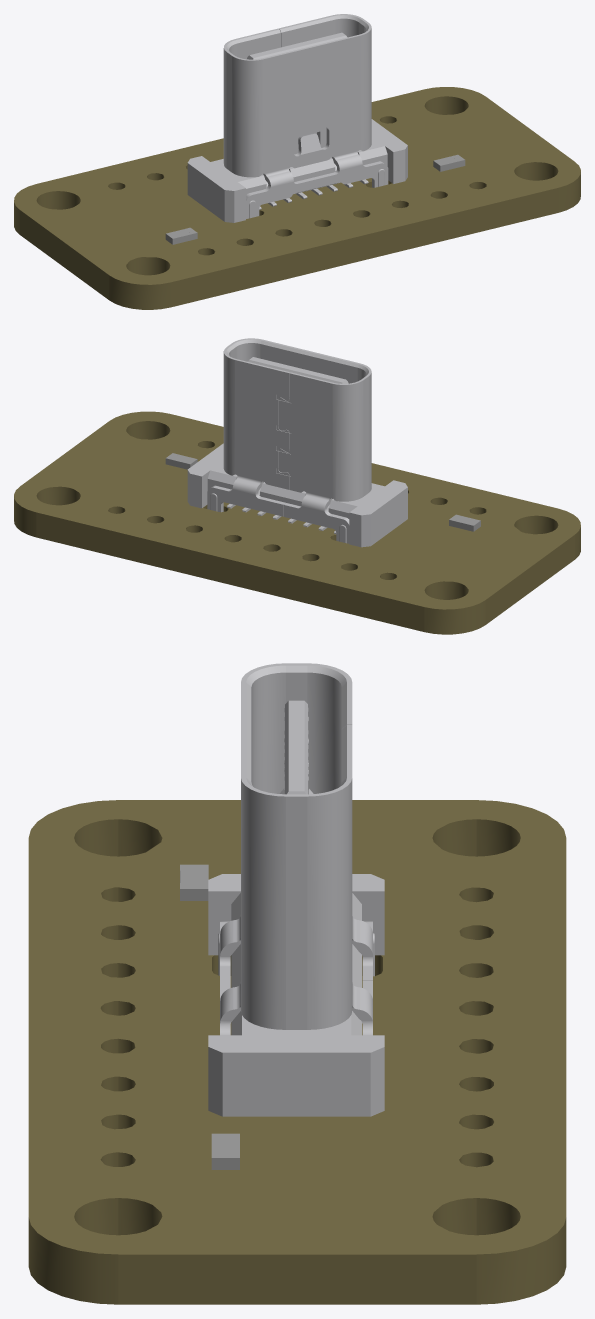
File: ada-5993.glb
The picture shows the model from 3 angles, top to bottom: view 1: azimuth 30°, elevation 25°; view 2: azimuth 150°, elevation 25°; view 3: azimuth 270°, elevation 25°; orthographic projection. The views are drawn at different scales.
Visible parts, largest first — view 1: 0.16666666666666666_0.16666666666666666_0.08333333333333333_, 0.5833333333333334_0.5833333333333334_0.5833333333333334_0.8, 0.3333333333333333_0.3333333333333333_0.3333333333333333_0; view 2: 0.16666666666666666_0.16666666666666666_0.08333333333333333_, 0.5833333333333334_0.5833333333333334_0.5833333333333334_0.8, 0.3333333333333333_0.3333333333333333_0.3333333333333333_0; view 3: 0.16666666666666666_0.16666666666666666_0.08333333333333333_, 0.5833333333333334_0.5833333333333334_0.5833333333333334_0.8, 0.3333333333333333_0.3333333333333333_0.3333333333333333_0.
Part boxes in pixels (x1,y1,x2,y2): 0.16666666666666666_0.16666666666666666_0.08333333333333333_: (14,87,580,309); 0.5833333333333334_0.5833333333333334_0.5833333333333334_0.8: (187,14,407,222); 0.3333333333333333_0.3333333333333333_0.3333333333333333_0: (165,154,465,244); 0.16666666666666666_0.16666666666666666_0.08333333333333333_: (14,411,580,634); 0.5833333333333334_0.5833333333333334_0.5833333333333334_0.8: (187,338,407,547); 0.3333333333333333_0.3333333333333333_0.3333333333333333_0: (165,453,480,531); 0.16666666666666666_0.16666666666666666_0.08333333333333333_: (28,800,566,1304); 0.5833333333333334_0.5833333333333334_0.5833333333333334_0.8: (208,663,384,1116); 0.3333333333333333_0.3333333333333333_0.3333333333333333_0: (180,864,239,1169).
Bounding box in the file's own units: 3.05 × 1.12 × 1.52.
